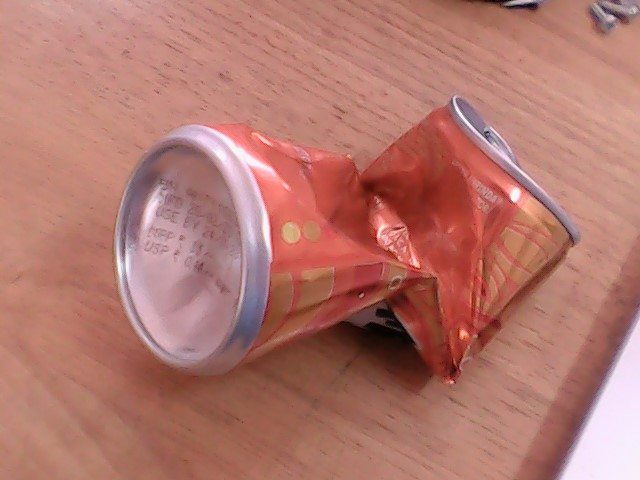Metal: (107, 122, 594, 363)
